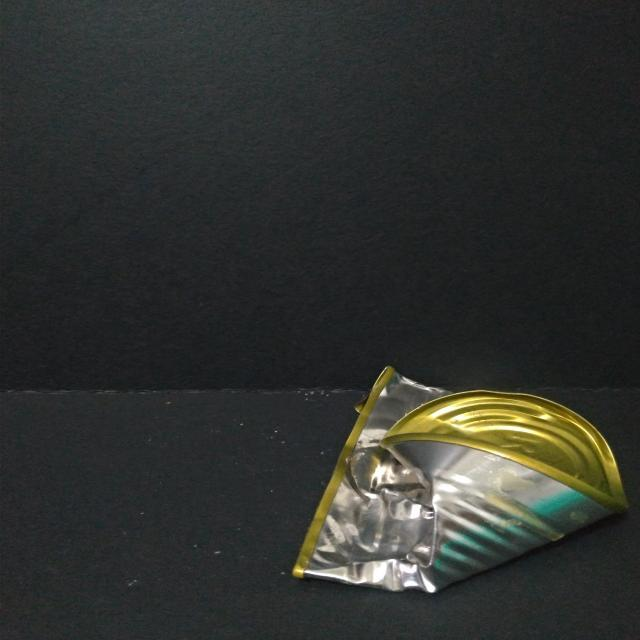metal-can: (286, 361, 640, 598)
